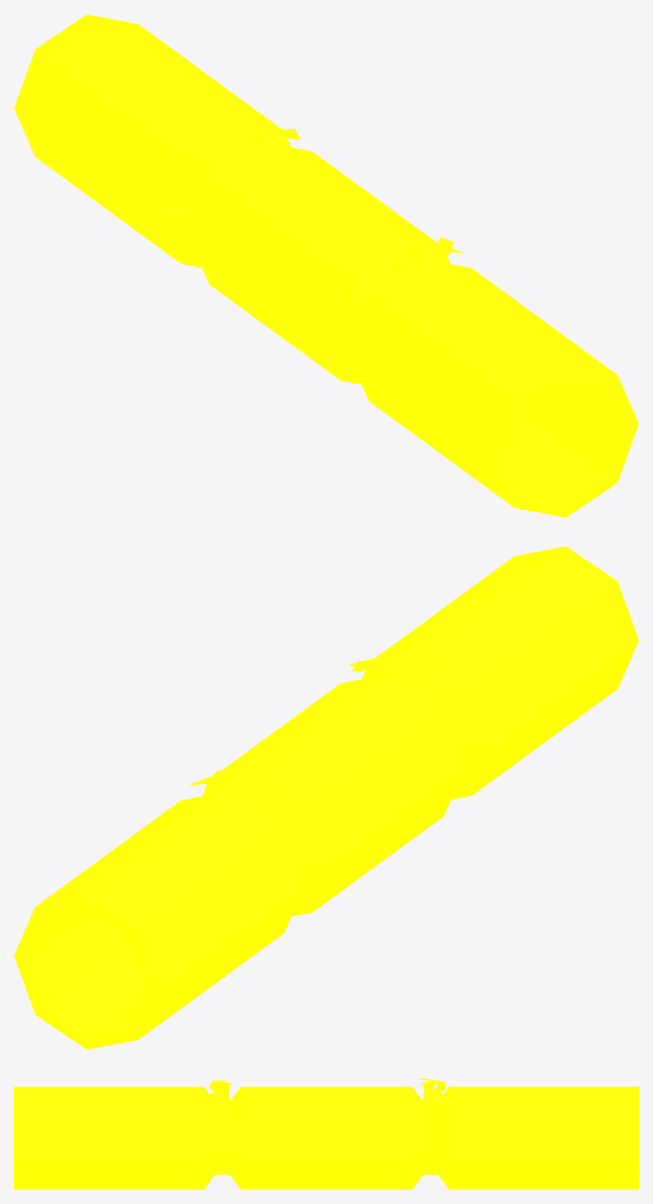
Rendered from cracker-a-christmas.glb.
3 views of the same model, one above another, from view 1: azimuth 30°, elevation 25°; view 2: azimuth 150°, elevation 25°; view 3: azimuth 270°, elevation 25° (orthographic). The views are drawn at different scales.
Visible parts, largest first — view 1: cracker_a_christmas; view 2: cracker_a_christmas; view 3: cracker_a_christmas.
Boxes of the visible parts, left/top/right/bottom form: cracker_a_christmas: left=14, top=14, right=638, bottom=517; cracker_a_christmas: left=14, top=546, right=638, bottom=1049; cracker_a_christmas: left=14, top=1078, right=638, bottom=1189.
Bounding box in the file's own units: 0.0495 × 0.0502 × 0.2817.
1 material, 1 textured.
